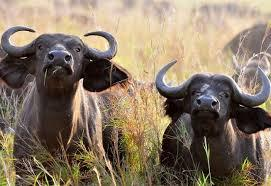Buffalo: (1, 23, 131, 163), (150, 53, 271, 176)
